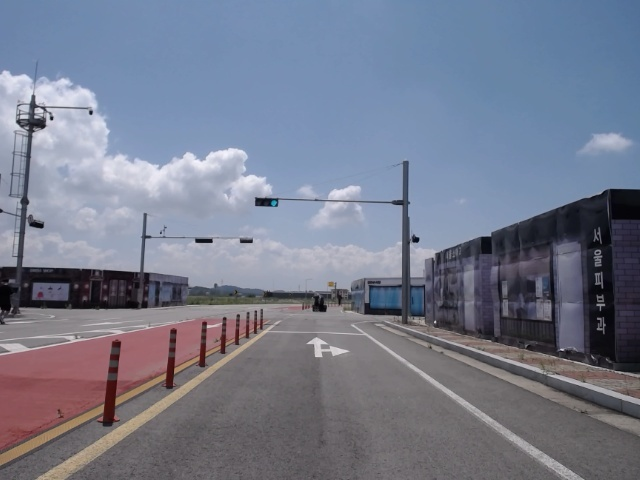green_3: (257, 199, 278, 206)
